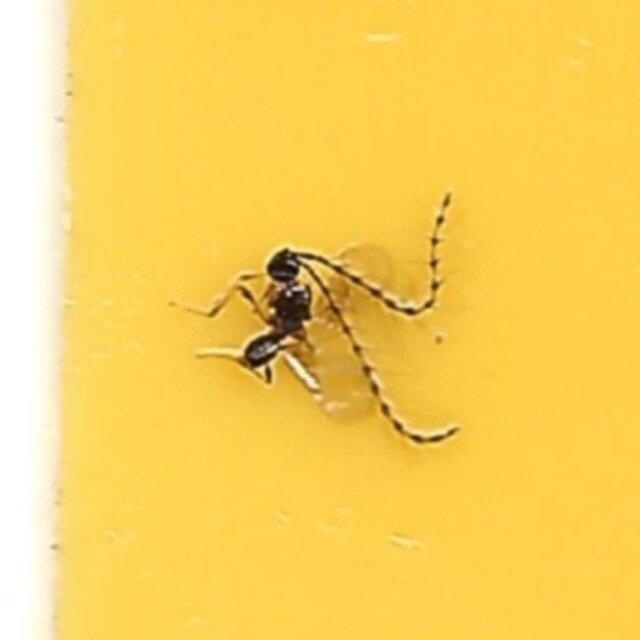Hymenoptera: (177, 193, 463, 447)
